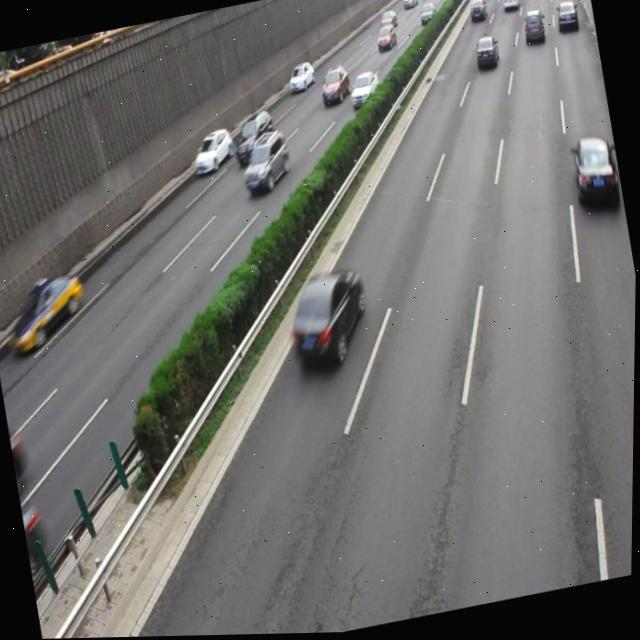car: (280, 263, 375, 376), (6, 269, 91, 355), (567, 132, 625, 215), (235, 127, 294, 196), (227, 108, 279, 168), (189, 126, 237, 177), (345, 68, 383, 111), (316, 65, 352, 109)
